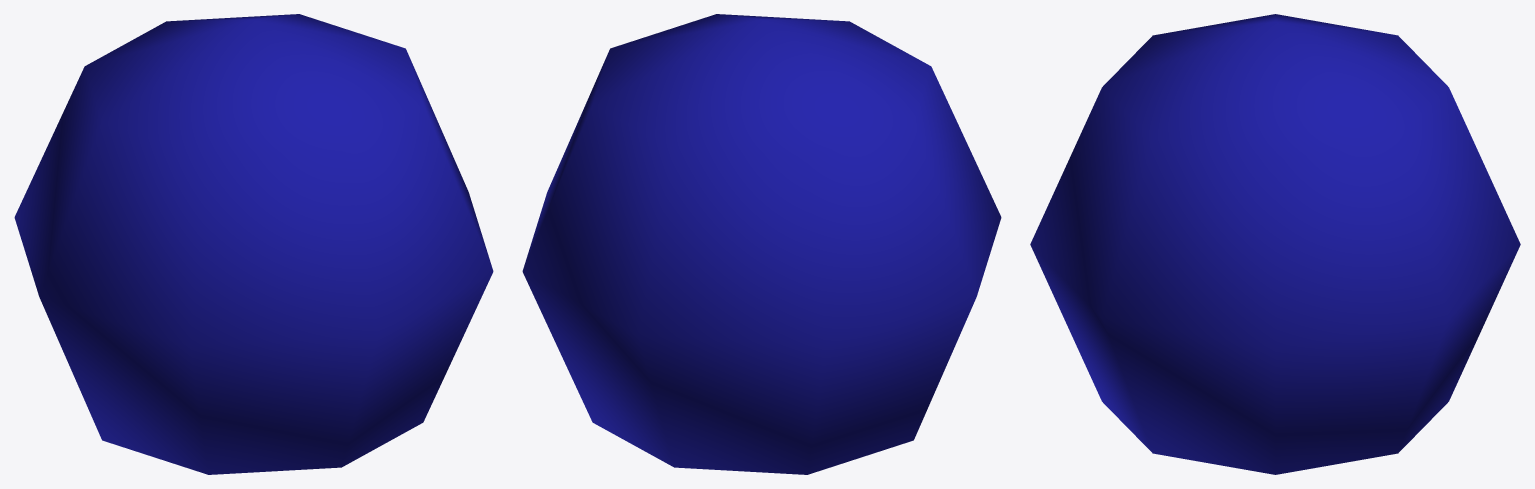
Rendered from obst_blueberry.obj.
The picture shows the model from 3 angles, left to right: view 1: azimuth 30°, elevation 25°; view 2: azimuth 150°, elevation 25°; view 3: azimuth 270°, elevation 25°; orthographic projection.
Parts seen in each view (by area): view 1: Blueberry; view 2: Blueberry; view 3: Blueberry.
Part boxes in pixels (x1=…): Blueberry: x1=14, y1=14, x2=493, y2=474; Blueberry: x1=522, y1=14, x2=1001, y2=474; Blueberry: x1=1030, y1=14, x2=1520, y2=474.
Bounding box in the file's own units: 10.02 × 10.02 × 10.02.
